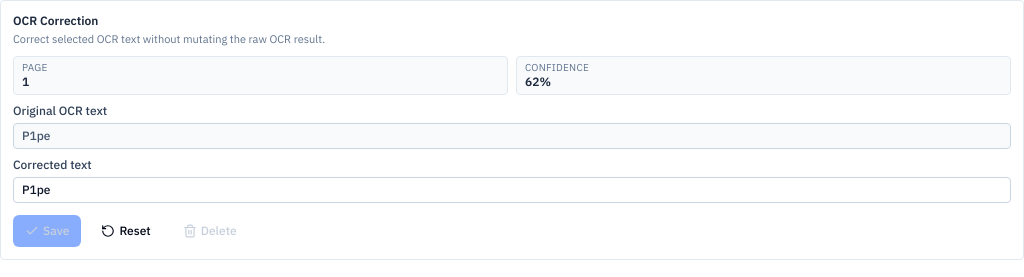
Test: OcrCorrectionPanel › resets input back to original OCR text
This screenshot has width=1024, height=277.
Replace the text in the field with test id "ocr-correction-input" with "Pipe" at (512, 190), box [13,177,1011,203]
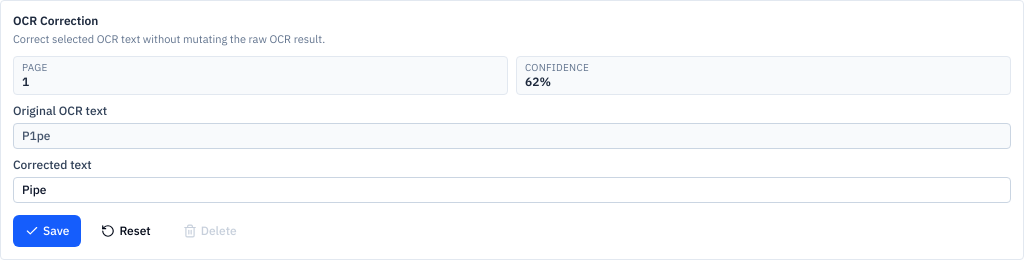
Click the button with test id "ocr-correction-reset" at (126, 231), box [89,215,163,247]
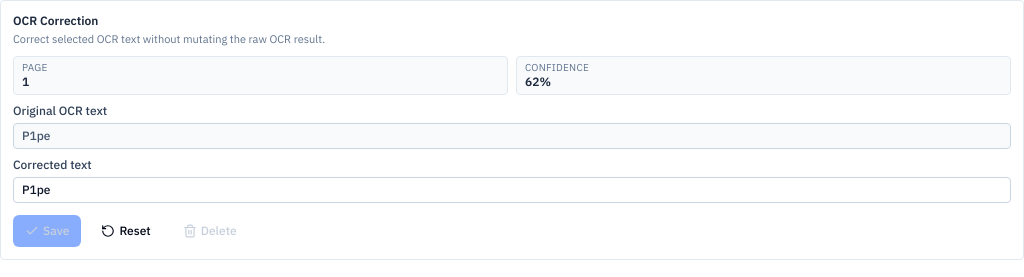
Now the field with test id "ocr-correction-input" holds "P1pe", box [13,177,1011,203]
